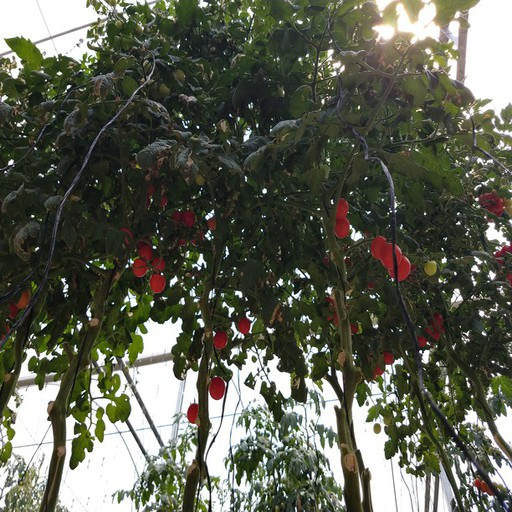red tomato bunch: (113, 228, 173, 291), (159, 211, 225, 244), (369, 235, 412, 281), (359, 347, 395, 384), (323, 296, 356, 333), (415, 313, 447, 348), (493, 244, 512, 287), (478, 192, 504, 221), (136, 184, 168, 207)
